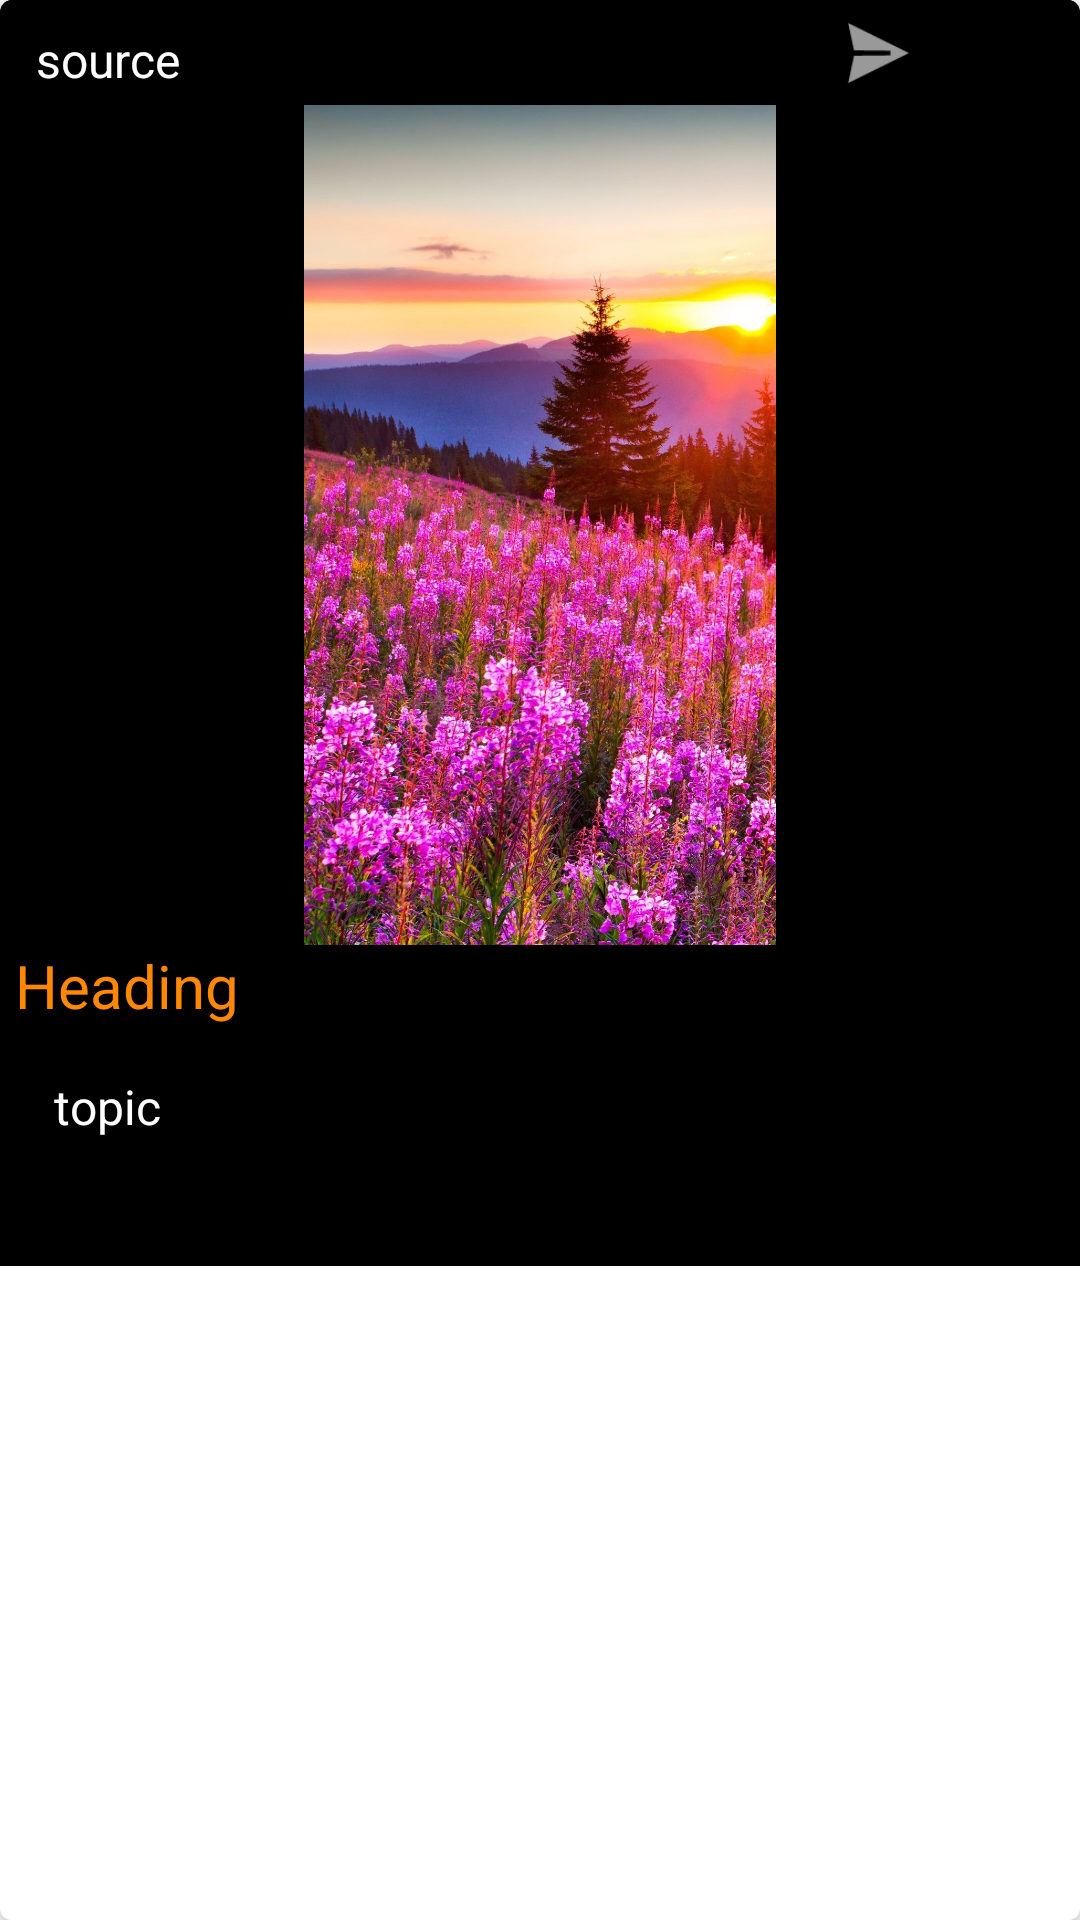

Where to tap for icons on this 1080w x 1920h app screen, as (x=x, y=y):
send: (x=878, y=53)
